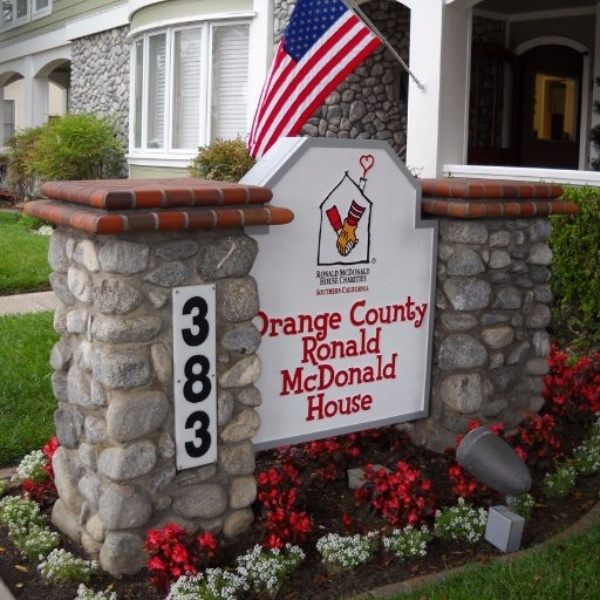text: (193, 295, 208, 461), (180, 295, 192, 461), (209, 295, 215, 461), (289, 351, 304, 397), (305, 351, 320, 397), (321, 351, 336, 397), (337, 351, 352, 397), (353, 351, 368, 397), (369, 351, 384, 397), (305, 325, 320, 368), (321, 325, 336, 368), (337, 325, 352, 368), (353, 325, 368, 368), (369, 325, 383, 368), (385, 351, 398, 397), (321, 386, 336, 422), (337, 386, 352, 422), (353, 386, 368, 422), (353, 293, 368, 327), (369, 293, 384, 327), (385, 293, 400, 327), (401, 293, 416, 327), (306, 386, 320, 422), (417, 293, 431, 327), (273, 312, 288, 342), (289, 312, 304, 342), (305, 312, 320, 342), (321, 312, 336, 342), (279, 351, 288, 397), (257, 310, 268, 340), (321, 272, 336, 288), (337, 272, 352, 288), (353, 272, 368, 288), (321, 283, 336, 298), (337, 283, 352, 298), (353, 283, 368, 298), (250, 310, 256, 340), (321, 267, 336, 278), (337, 267, 352, 278), (353, 267, 368, 278), (337, 312, 342, 342), (369, 386, 373, 422), (301, 325, 304, 368), (349, 293, 352, 327), (269, 312, 272, 342), (315, 283, 320, 298), (316, 267, 320, 278), (369, 267, 372, 278), (318, 272, 320, 288), (369, 283, 371, 298)
